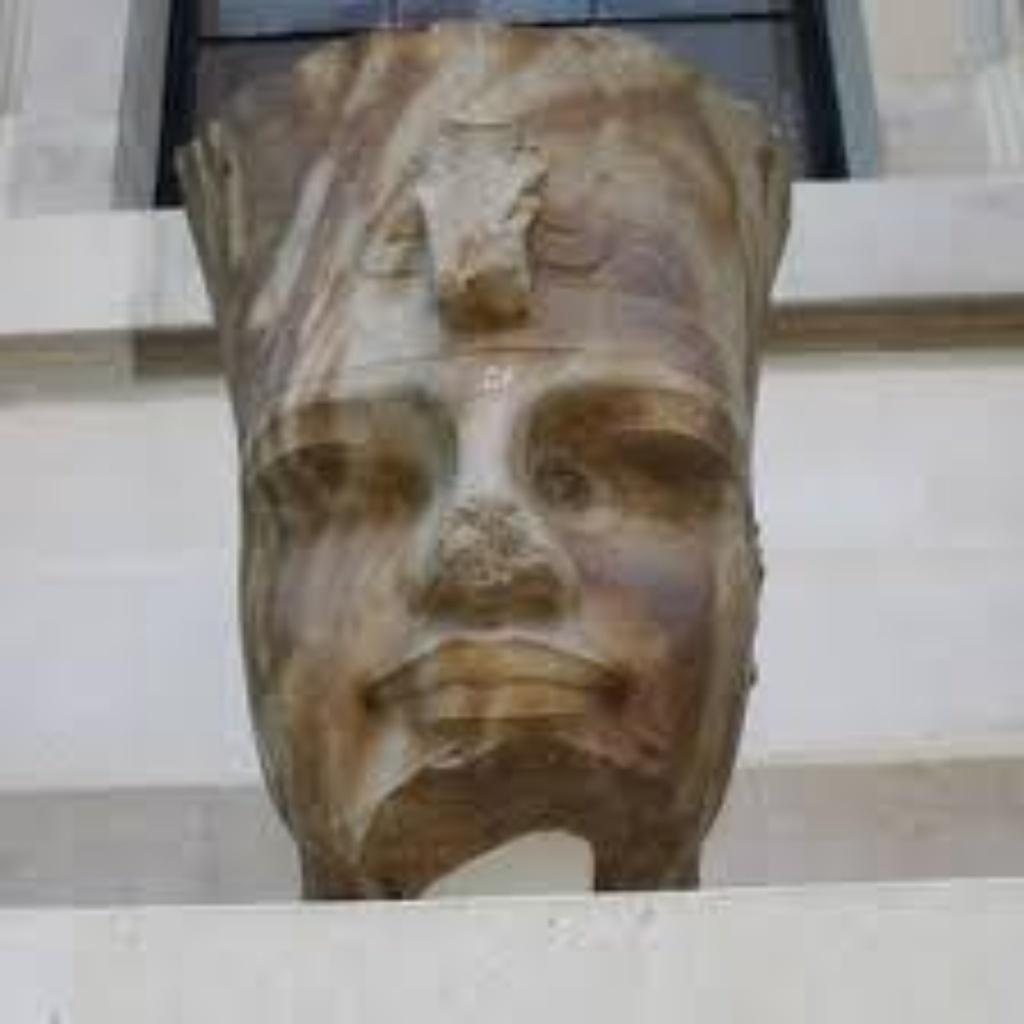Head Statue of Amenhotep iii: (169, 14, 800, 900)
